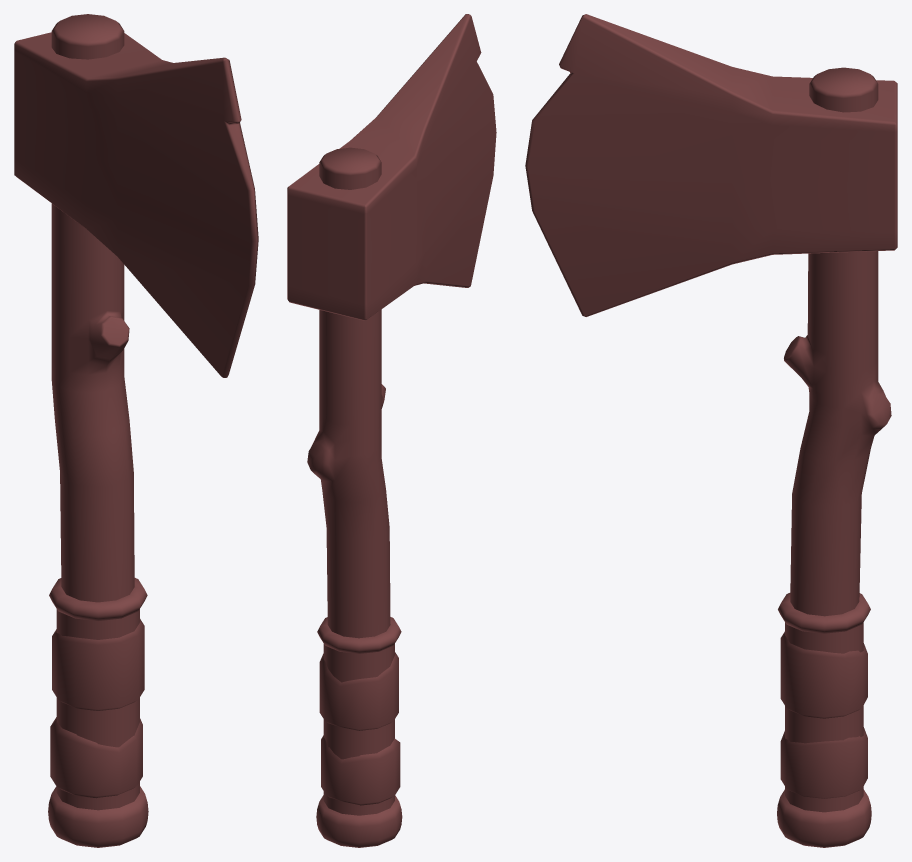
Rendered from SM_Woodaxe_Unity.fbx.
The picture shows the model from 3 angles, left to right: view 1: azimuth 30°, elevation 25°; view 2: azimuth 150°, elevation 25°; view 3: azimuth 270°, elevation 25°; orthographic projection. The views are drawn at different scales.
Parts seen in each view (by area): view 1: SM_Woodaxe; view 2: SM_Woodaxe; view 3: SM_Woodaxe.
Part boxes in pixels (x1,y1,x2,y2): SM_Woodaxe: (14, 14, 258, 847); SM_Woodaxe: (287, 14, 496, 847); SM_Woodaxe: (525, 14, 897, 847).
Size of the model in its own units: 0.0617 by 0.5443 by 0.2249.
